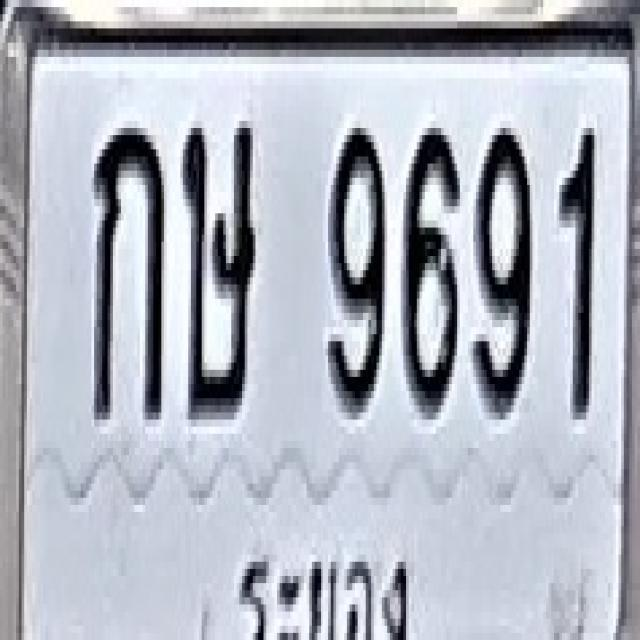1: (558, 121, 596, 419)
6: (402, 121, 459, 412)
9: (473, 124, 530, 416), (327, 121, 383, 412)
A01: (91, 121, 164, 419)
A39: (180, 117, 256, 416)
RYG: (234, 535, 418, 640)
